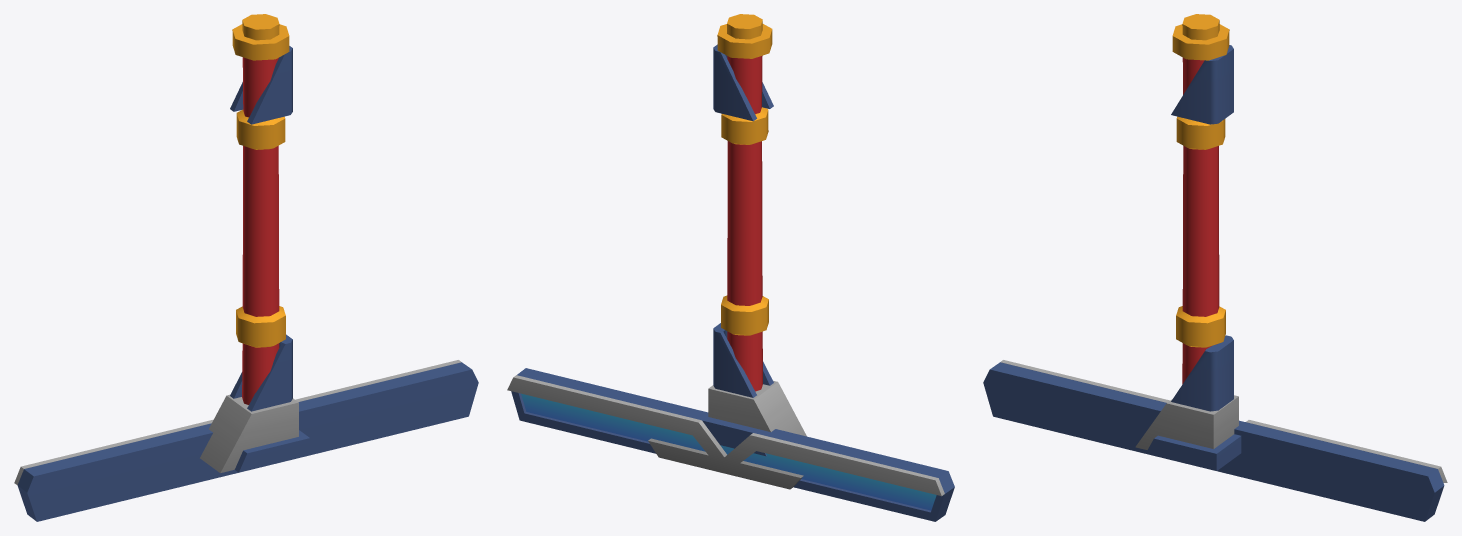
File: firerate_t5_a5.fbx
3 views of the same model, side by side, from view 1: azimuth 30°, elevation 25°; view 2: azimuth 150°, elevation 25°; view 3: azimuth 330°, elevation 25° (orthographic). The views are drawn at different scales.
Parts seen in each view (by area): view 1: firerate_t5_a5_m, firerate_t5_a5_m_lock; view 2: firerate_t5_a5_m_lock, firerate_t5_a5_m; view 3: firerate_t5_a5_m, firerate_t5_a5_m_lock.
Part boxes in pixels (x1,y1,x2,y2): firerate_t5_a5_m: (200, 14, 309, 472); firerate_t5_a5_m_lock: (14, 360, 478, 521); firerate_t5_a5_m_lock: (507, 368, 954, 521); firerate_t5_a5_m: (708, 14, 806, 456); firerate_t5_a5_m: (1135, 14, 1241, 470); firerate_t5_a5_m_lock: (983, 360, 1447, 521).
Bounding box in the file's own units: 5.45 × 5.22 × 0.7935.
